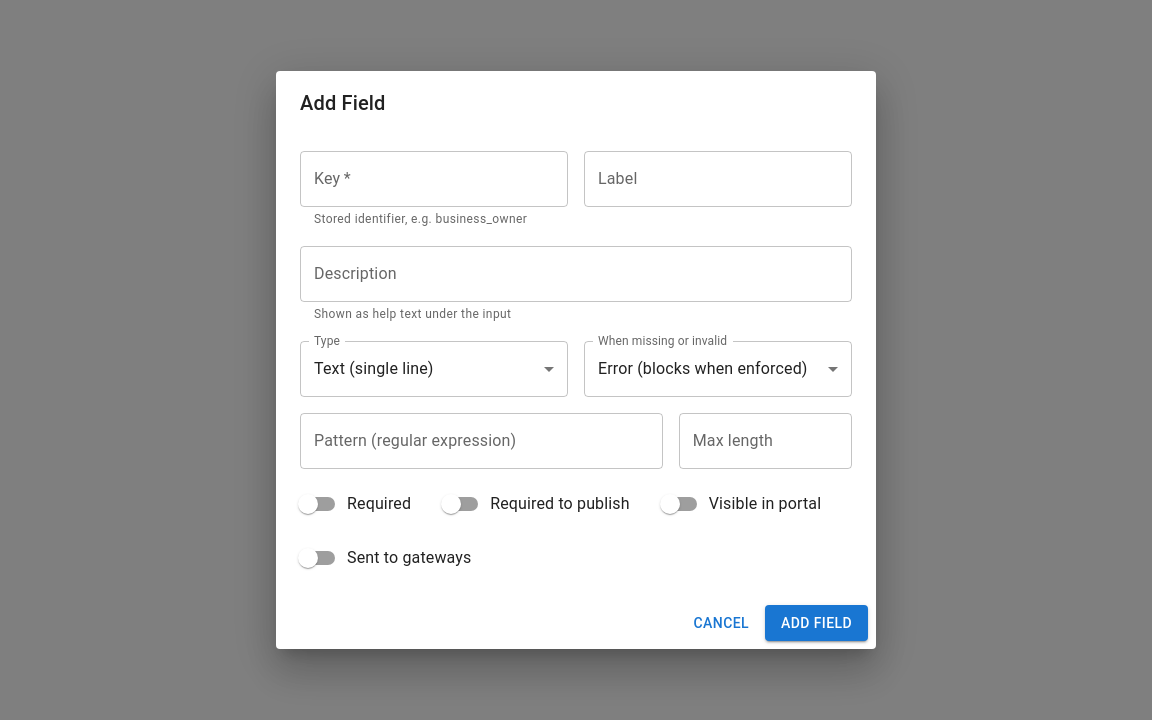
FieldDefinitionDialog › rejects invalid and duplicate keys
Type "Bad Key" into the field labelled "Key *" at (434, 179), box [300,151,568,207]
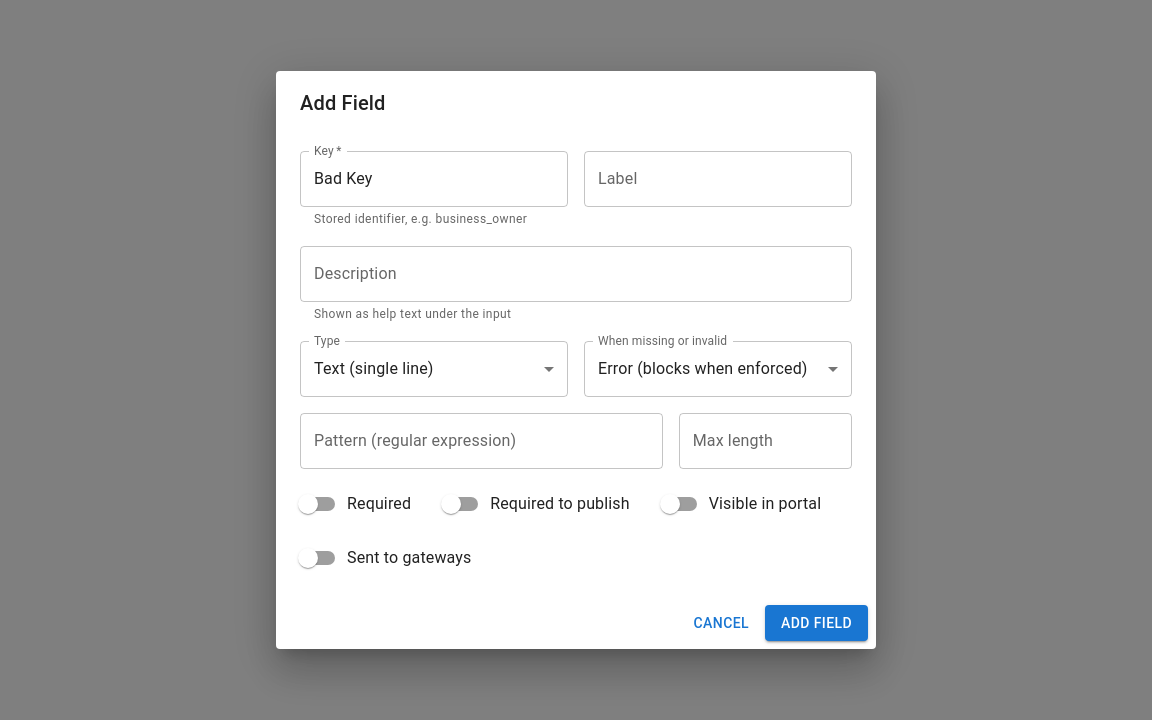
Click the button "Add field" at (816, 623), box [765,605,868,641]
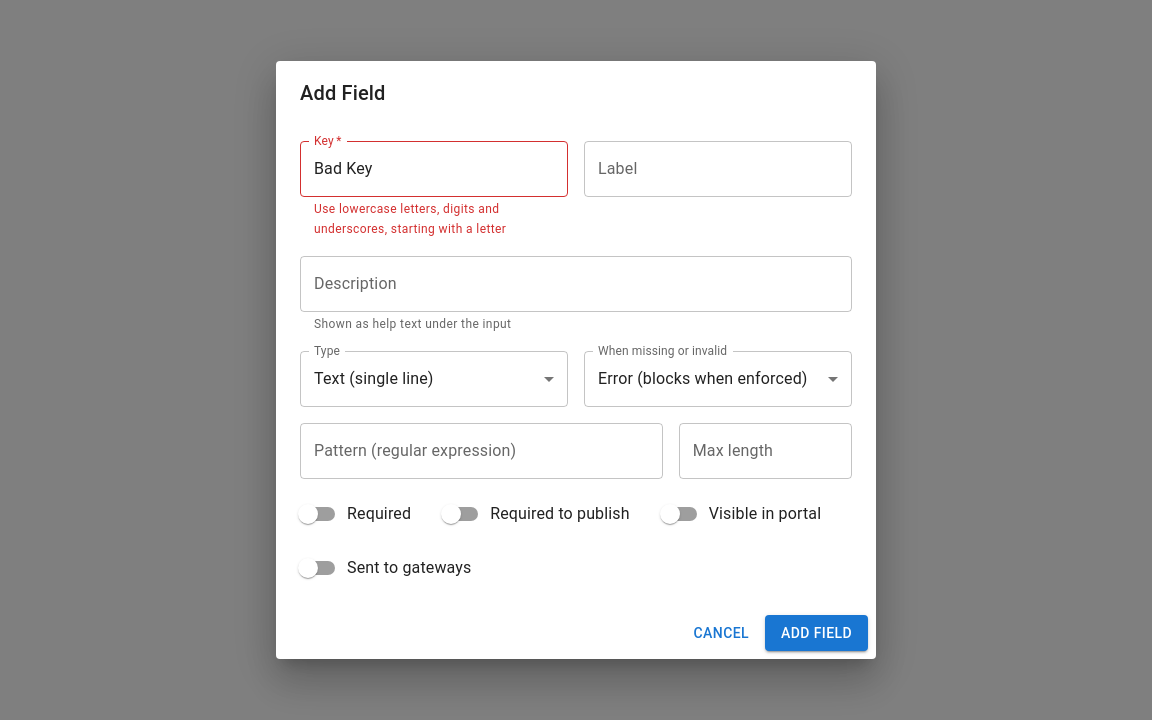
Now the text "lowercase letters" is shown, box [314,202,506,236]
Replace the text in the field labelled "Key *" with "taken" at (434, 169), box [300,141,568,197]
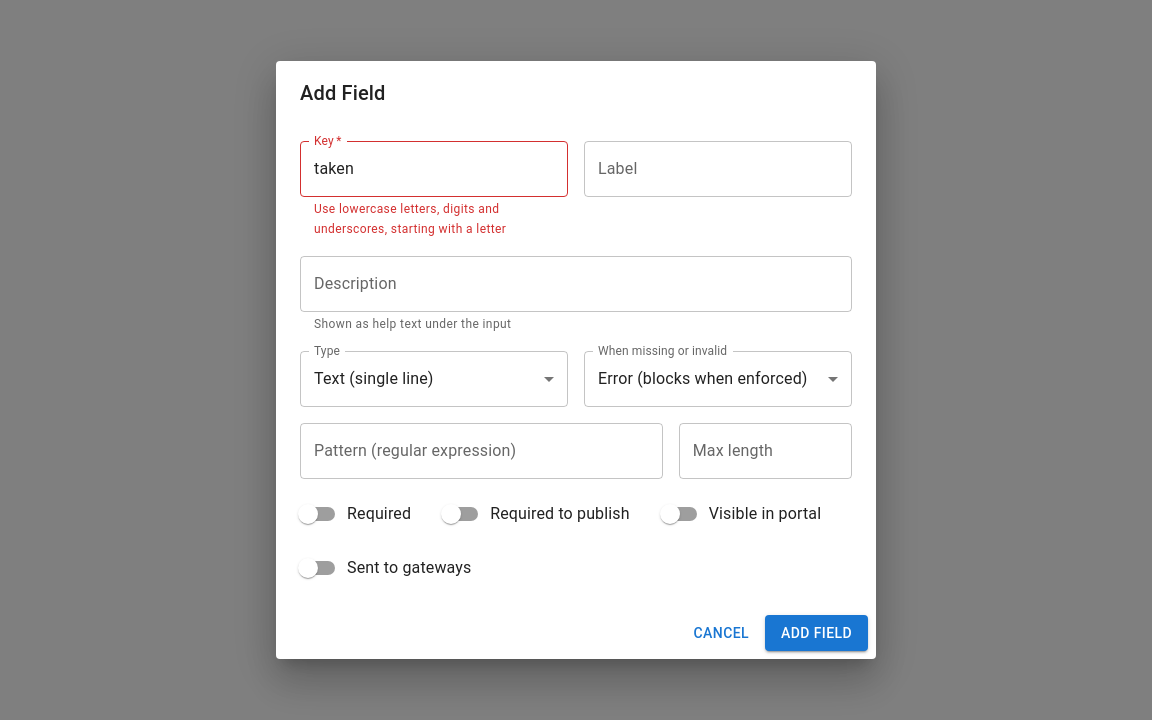
Click the button "Add field" at (816, 633), box [765,615,868,651]
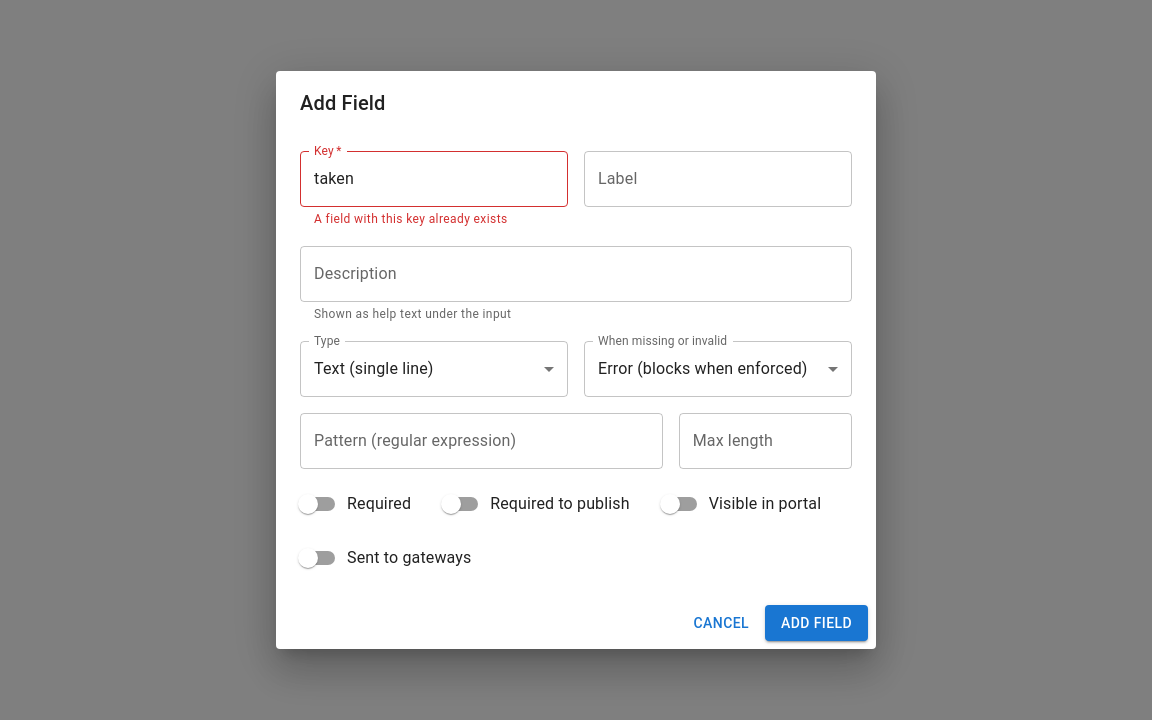
Now the text "A field with this key already exists" is shown, box [314,212,508,226]
